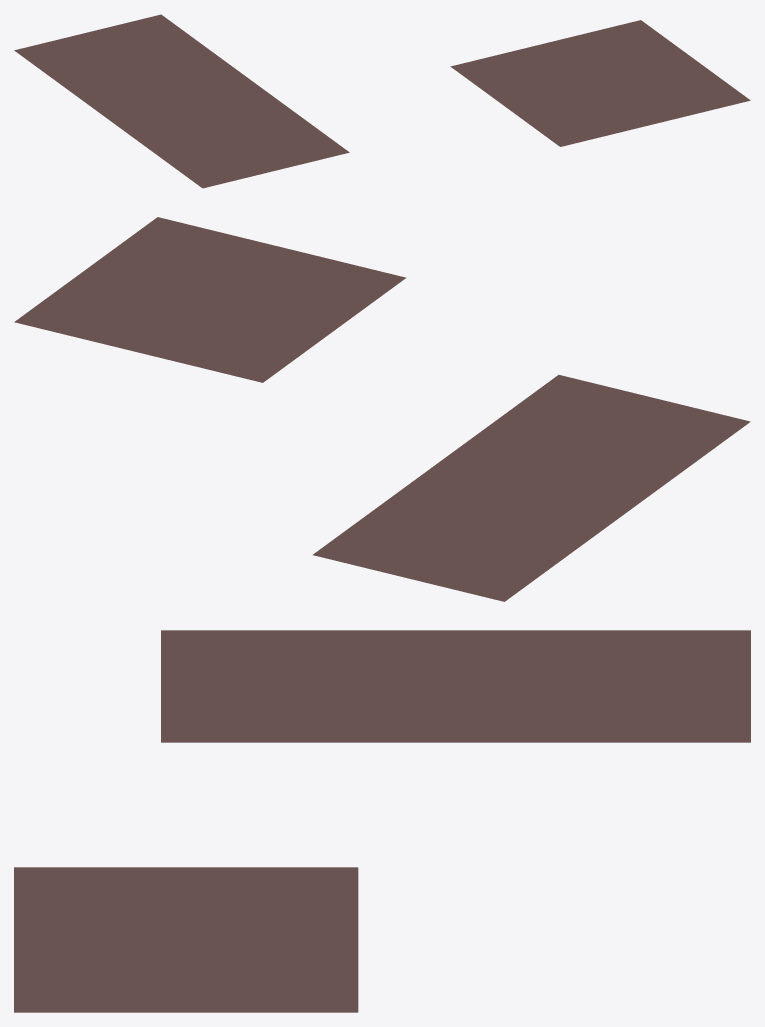
Rendered from _OUT_OF_BOUNDS.fbx.
3 views of the same model, one above another, from view 1: azimuth 30°, elevation 25°; view 2: azimuth 150°, elevation 25°; view 3: azimuth 270°, elevation 25° (orthographic). The views are drawn at different scales.
Visible parts, largest first — view 1: Platform.008, Platform.006; view 2: Platform.008, Platform.006; view 3: Platform.008, Platform.006.
Part boxes in pixels (x1,y1,x2,y2): Platform.008: (14,14,349,188); Platform.006: (450,20,750,146); Platform.008: (313,375,750,601); Platform.006: (14,217,406,382); Platform.008: (161,630,750,742); Platform.006: (14,867,358,1012).
Bounding box in the file's own units: 5522 × 0.000768 × 4496.
